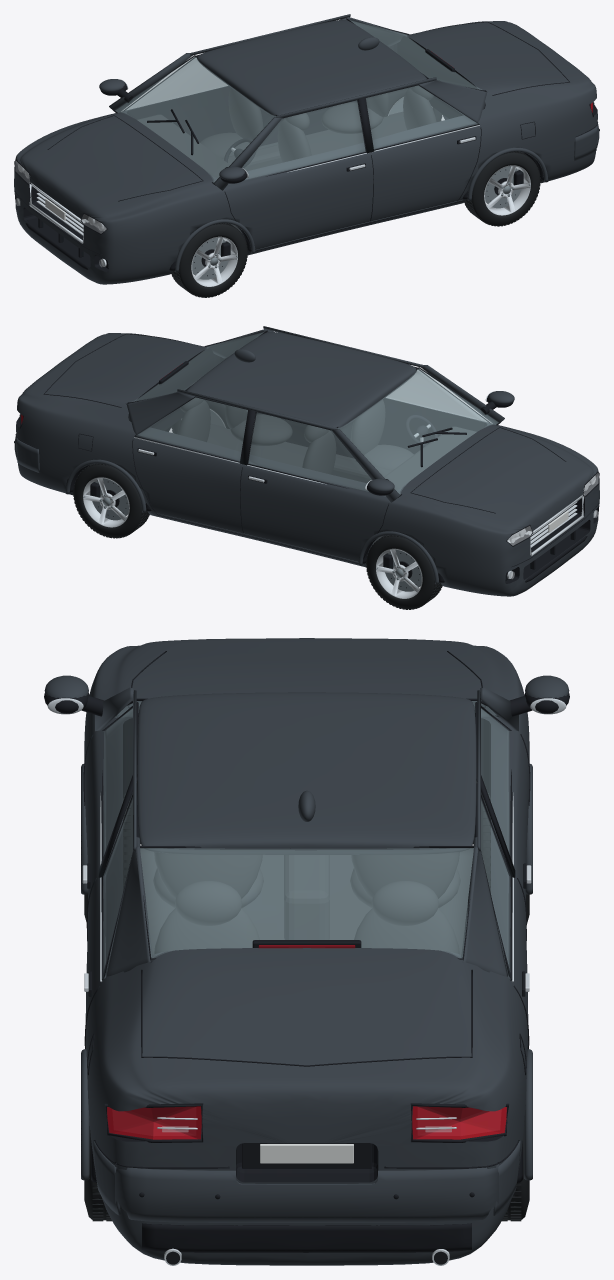
The model's file is saloon.glb.
3 renders of one model, top to bottom at view 1: azimuth 30°, elevation 25°; view 2: azimuth 150°, elevation 25°; view 3: azimuth 270°, elevation 25°, orthographic. The views are drawn at different scales.
Parts seen in each view (by area): view 1: Watertight 14-station body shell, Crowned roof pressing, Raked laminated windshield, Front side door glass, Rear side door glass, 107 reused Sculpted_tyre, 107 reused Sculpted_tyre.002, Sloping rear glass, Front side door glass.001, Instrument panel, Cabin carpet, Surface integrated sedan rear roof pillar (+21 smaller); view 2: Watertight 14-station body shell, Crowned roof pressing, Raked laminated windshield, Front side door glass.001, Rear side door glass.001, 107 reused Sculpted_tyre.001, 107 reused Sculpted_tyre.003, Sloping rear glass, Front side door glass, Instrument panel, Cabin carpet, Surface integrated sedan rear roof pillar.001 (+21 smaller); view 3: Watertight 14-station body shell, Crowned roof pressing, Sloping rear glass, Formed painted rear bumper cover, Sculpted rear lower bumper insert, Cabin carpet, Center console, Contoured seat back, Contoured seat back.001, Surface integrated sedan rear roof pillar.001, Surface integrated sedan rear roof pillar, Contoured seat back.003 (+21 smaller).
Part boxes in pixels (box(x1,y1,x2,y2)): Watertight 14-station body shell: box(14, 21, 597, 284); Crowned roof pressing: box(197, 20, 426, 116); Raked laminated windshield: box(115, 56, 275, 182); Front side door glass: box(228, 100, 365, 184); Rear side door glass: box(366, 85, 477, 149); 107 reused Sculpted_tyre: box(172, 223, 247, 297); 107 reused Sculpted_tyre.002: box(465, 152, 539, 225); Sloping rear glass: box(350, 20, 481, 89); Front side door glass.001: box(127, 58, 227, 109); Instrument panel: box(137, 114, 229, 177); Cabin carpet: box(223, 112, 406, 240); Surface integrated sedan rear roof pillar: box(419, 80, 487, 122); Watertight 14-station body shell: box(16, 333, 599, 596); Crowned roof pressing: box(187, 332, 416, 428); Raked laminated windshield: box(338, 368, 498, 494); Front side door glass.001: box(248, 412, 385, 496); Rear side door glass.001: box(136, 397, 247, 461); 107 reused Sculpted_tyre.001: box(366, 535, 441, 609); 107 reused Sculpted_tyre.003: box(73, 464, 148, 537); Sloping rear glass: box(132, 332, 263, 401); Front side door glass: box(386, 370, 486, 421); Instrument panel: box(384, 426, 476, 489); Cabin carpet: box(207, 424, 390, 552); Surface integrated sedan rear roof pillar.001: box(126, 392, 194, 434); Watertight 14-station body shell: box(84, 638, 529, 1265); Crowned roof pressing: box(137, 692, 476, 854); Sloping rear glass: box(140, 848, 473, 958); Formed painted rear bumper cover: box(115, 1164, 498, 1222); Sculpted rear lower bumper insert: box(142, 1223, 471, 1252); Cabin carpet: box(140, 845, 473, 954); Center console: box(284, 855, 329, 939); Contoured seat back: box(154, 852, 262, 898); Contoured seat back.001: box(351, 852, 459, 898); Surface integrated sedan rear roof pillar.001: box(461, 837, 507, 976); Surface integrated sedan rear roof pillar: box(106, 837, 152, 976); Contoured seat back.003: box(354, 908, 459, 954).
Size of the model in its own units: 4.84 by 1.55 by 2.18.
Materials: 10 (10 with a texture image).
